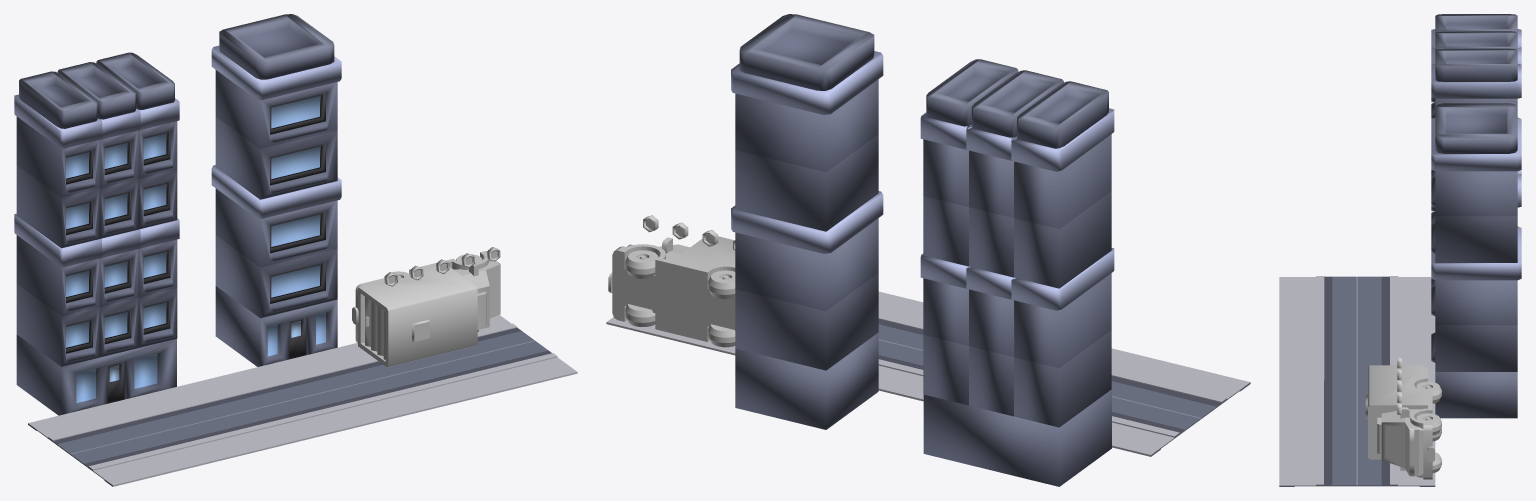
Rendered from TestBlock.obj.
3 renders of one model, left to right at view 1: azimuth 30°, elevation 25°; view 2: azimuth 150°, elevation 25°; view 3: azimuth 270°, elevation 25°, orthographic. The views are drawn at different scales.
Parts seen in each view (by area): view 1: building-sample-tower-d.001, building-sample-tower-d, road_straight, delivery; view 2: building-sample-tower-d.001, building-sample-tower-d, road_straight, delivery; view 3: building-sample-tower-d, road_straight, building-sample-tower-d.001, delivery.
Boxes of the visible parts, x1,y1,x2,y2 form: building-sample-tower-d.001: (14,52,179,415); building-sample-tower-d: (211,14,341,366); road_straight: (28,315,577,486); delivery: (352,251,500,367); building-sample-tower-d.001: (920,59,1114,486); building-sample-tower-d: (731,14,883,429); road_straight: (606,291,1250,456); delivery: (608,236,735,347); building-sample-tower-d: (1431,103,1521,418); road_straight: (1279,276,1435,486); building-sample-tower-d.001: (1431,14,1521,287); delivery: (1365,365,1441,479).
Size of the model in its own units: 6 by 3.76 by 2.95.
